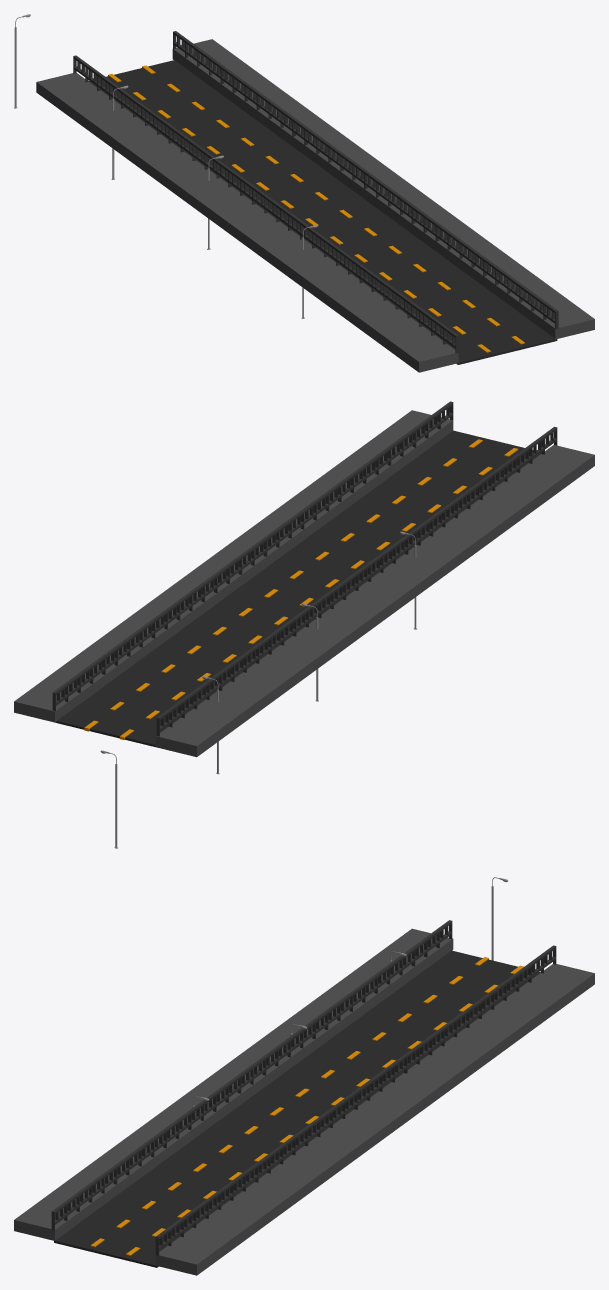
The picture shows the model from 3 angles, top to bottom: view 1: azimuth 30°, elevation 25°; view 2: azimuth 150°, elevation 25°; view 3: azimuth 330°, elevation 25°; orthographic projection. The views are drawn at different scales.
Parts seen in each view (by area): view 1: Куб, Куб.001, Куб.002, Куб.003, Куб.042, Куб.007, StreetLamp2_Tall.007; view 2: Куб, Куб.001, Куб.002, Куб.003, Куб.042, Куб.007, StreetLamp2_Tall.001; view 3: Куб, Куб.002, Куб.001, Куб.003, Куб.042, Куб.007.
Part boxes in pixels (x1=…): Куб: x1=88, y1=60, x2=557, y2=364; Куб.001: x1=36, y1=73, x2=458, y2=372; Куб.002: x1=172, y1=39, x2=594, y2=338; Куб.003: x1=173, y1=31, x2=558, y2=329; Куб.042: x1=73, y1=55, x2=458, y2=353; Куб.007: x1=108, y1=65, x2=524, y2=352; StreetLamp2_Tall.007: x1=14, y1=14, x2=318, y2=318; Куб: x1=55, y1=430, x2=541, y2=746; Куб.001: x1=155, y1=445, x2=594, y2=757; Куб.002: x1=14, y1=410, x2=453, y2=722; Куб.003: x1=52, y1=401, x2=453, y2=711; Куб.042: x1=156, y1=426, x2=557, y2=736; Куб.007: x1=84, y1=439, x2=518, y2=739; StreetLamp2_Tall.001: x1=100, y1=531, x2=416, y2=848; Куб: x1=54, y1=950, x2=540, y2=1267; Куб.002: x1=155, y1=964, x2=594, y2=1275; Куб.001: x1=14, y1=928, x2=453, y2=1240; Куб.003: x1=155, y1=945, x2=556, y2=1255; Куб.042: x1=51, y1=920, x2=452, y2=1230; Куб.007: x1=90, y1=957, x2=523, y2=1255.
Bounding box in the file's own units: 2662 × 1302 × 11345.
